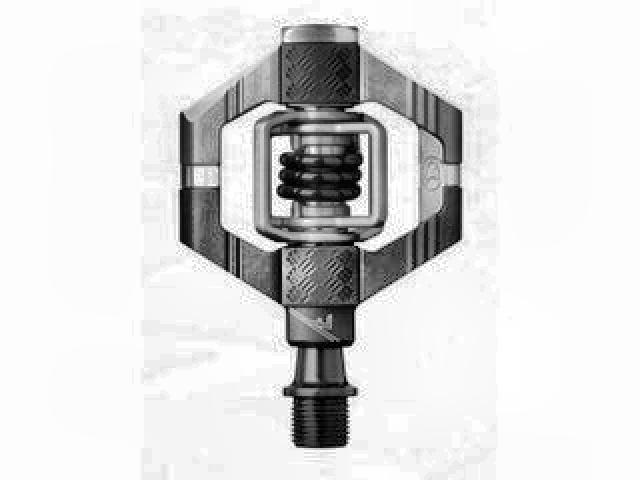pedal: (176, 20, 464, 450)
